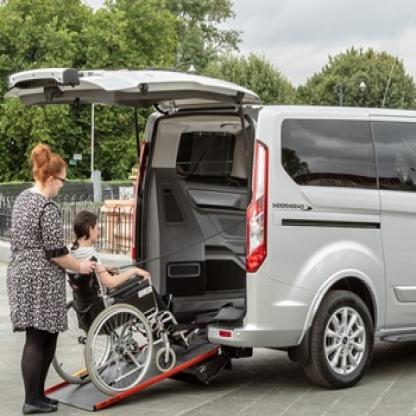wheelchair: (53, 211, 195, 399)
